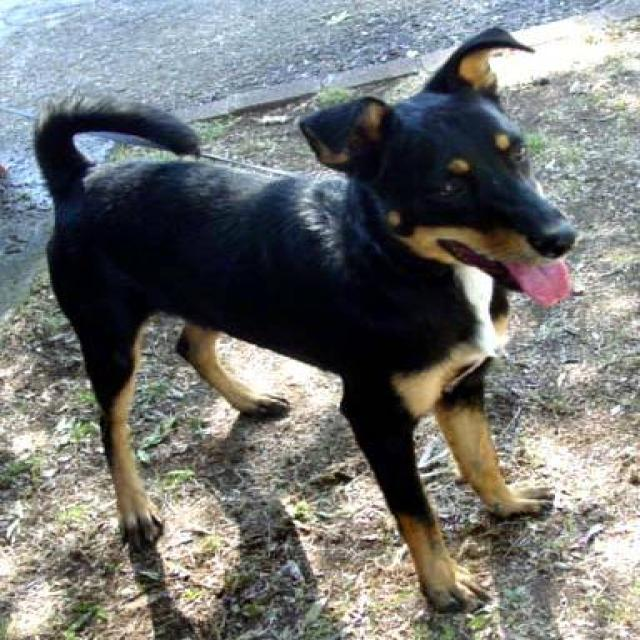dog: (30, 25, 578, 614)
